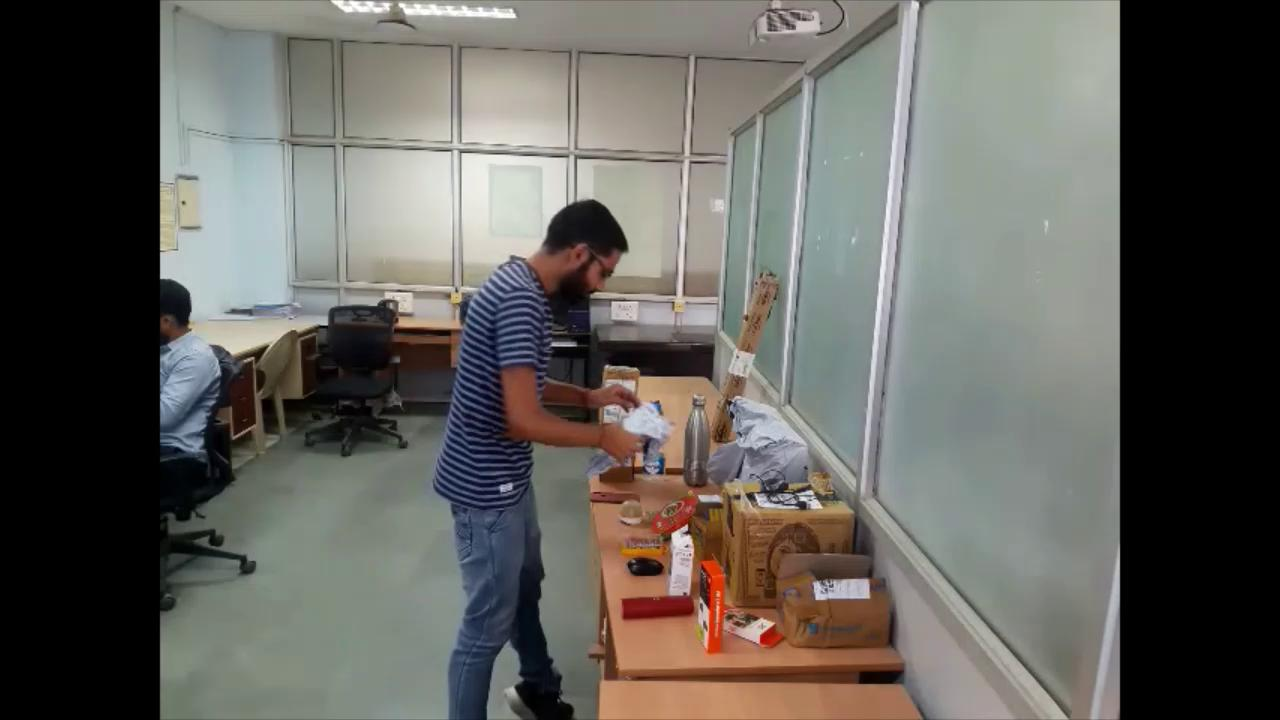Normal: (428, 175, 666, 720)
